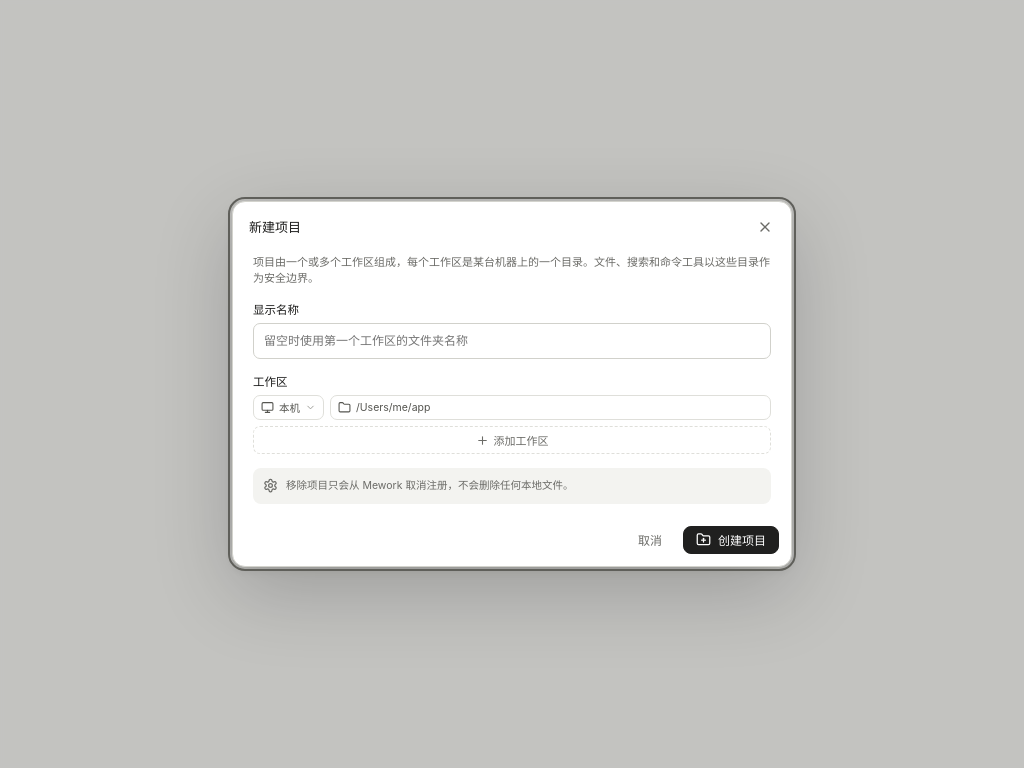
Test: ProjectDialog › offers Local, WSL and SSH, with the SSH list ending in an add item
Step 1. Click the button "本机" → [288, 408], box [253, 395, 324, 420]
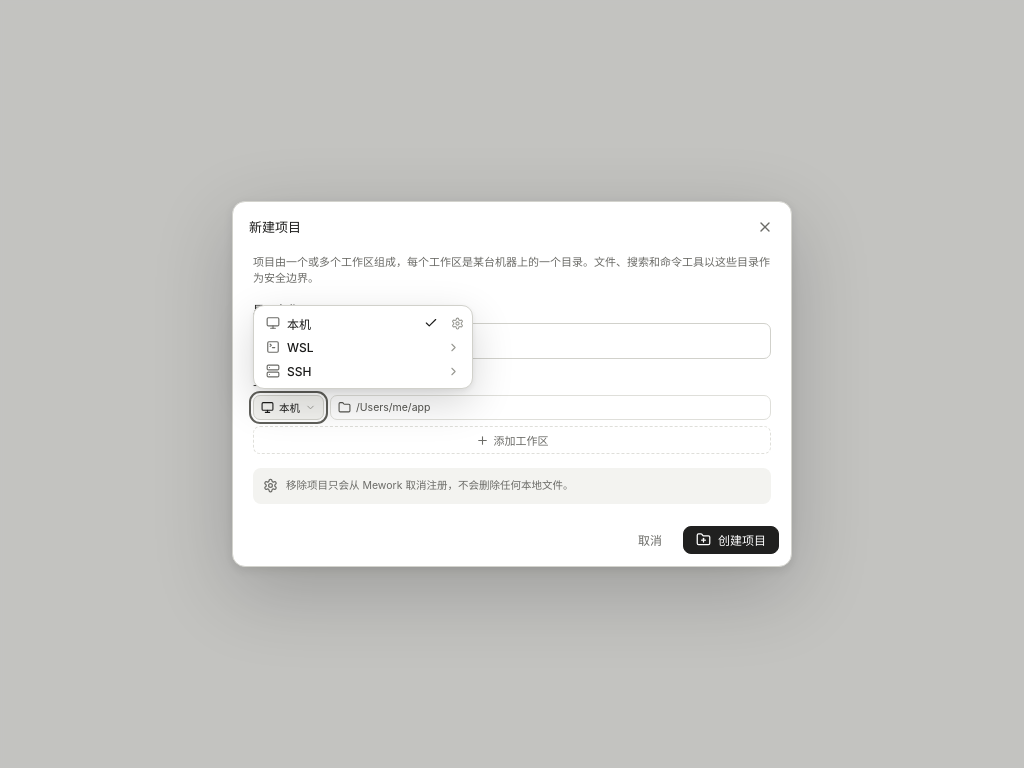
Step 2. Click the menu item "WSL" → [363, 347], box [259, 335, 467, 359]
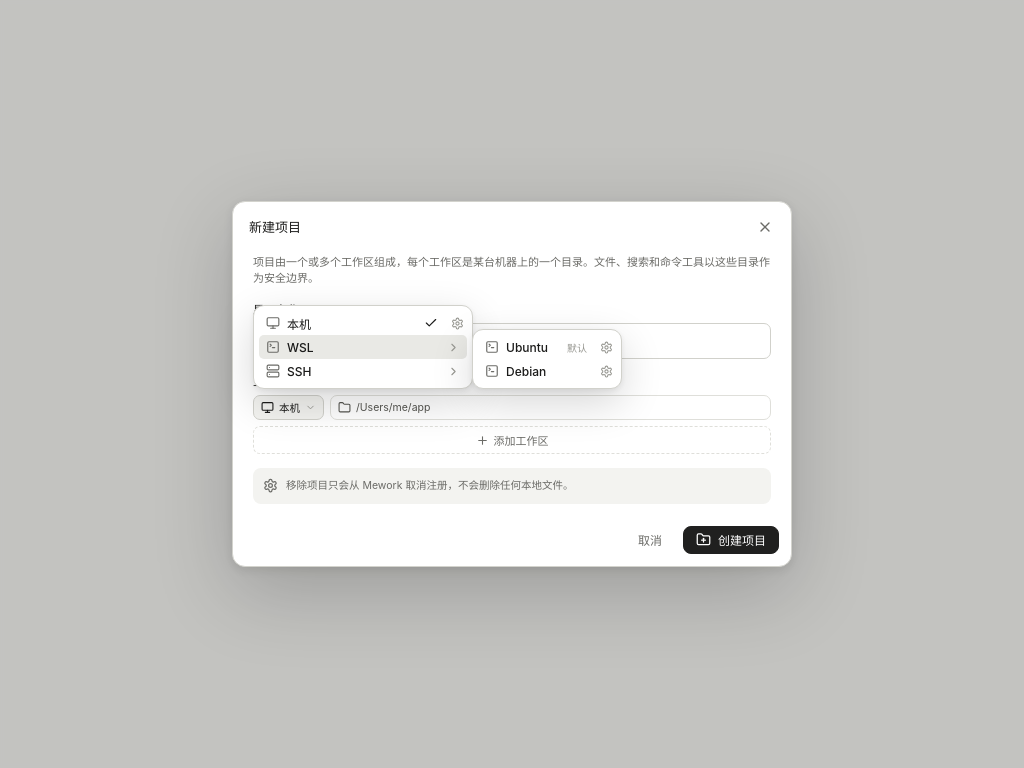
Expected: the button named "本机 的设置" is shown, [447, 313, 467, 333]
Expected: the menu item "Ubuntu 默认" is shown, [478, 335, 594, 359]
Expected: the menu item "Debian" is shown, [478, 359, 594, 383]
Step 3. Click the menu item "SSH" → [363, 371], box [259, 359, 467, 383]
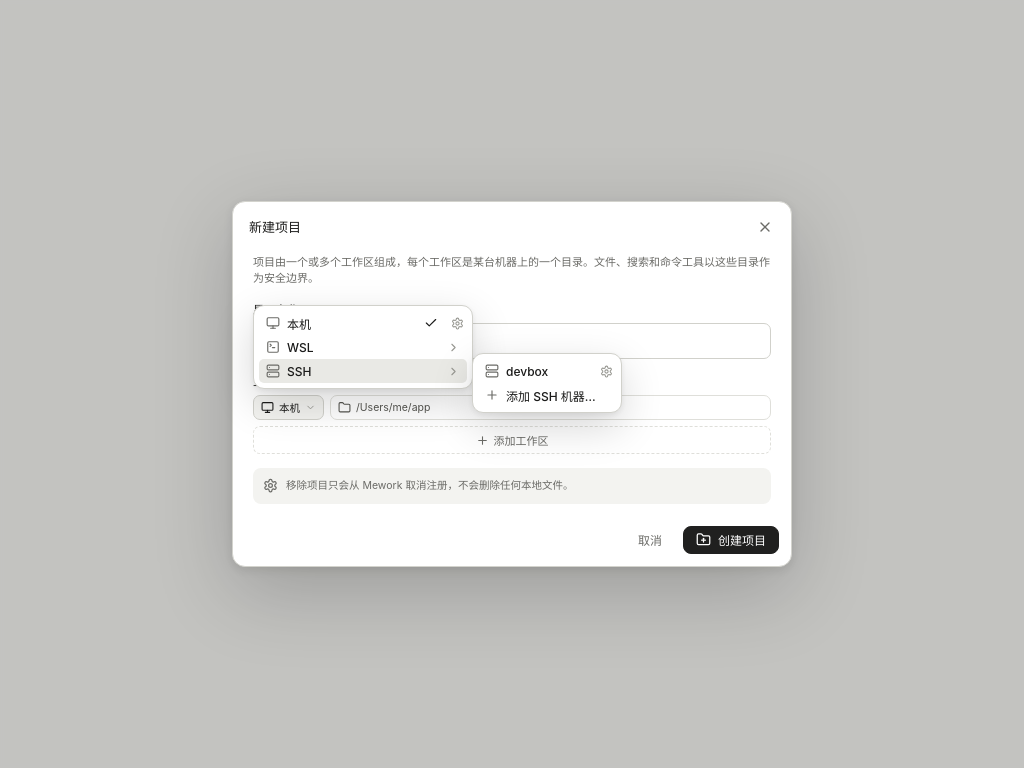
// Choosing another machine clears the path chosen on the old one.
Step 4. Click the menu item "devbox" → [536, 371], box [478, 359, 594, 383]
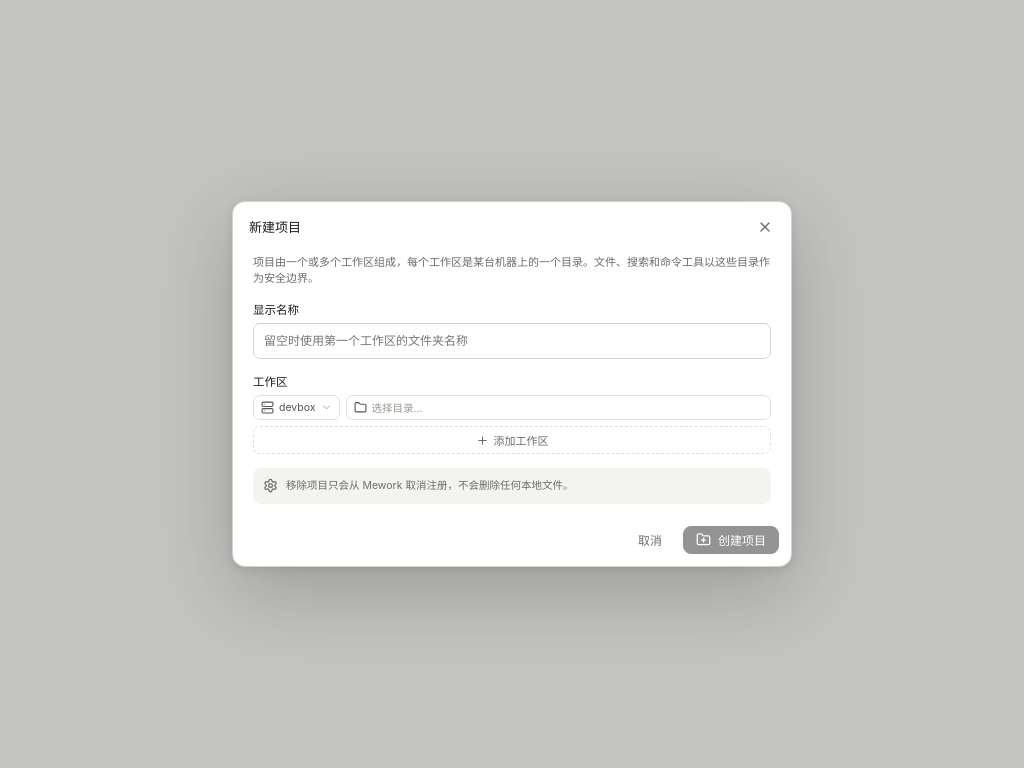
Expected: the menu "选择机器" is gone
Expected: the button with aria-label "为工作区 1 选择目录" is shown, [346, 395, 771, 420]
